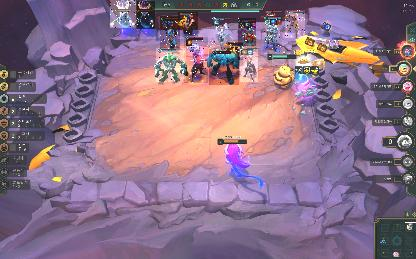1_aurelionsol: (110, 0, 136, 28), (137, 1, 155, 29)
1_bard: (178, 12, 198, 36), (227, 42, 243, 60)
1_shyvana: (285, 10, 305, 38)
2_kaisa: (264, 16, 282, 52)
2_malphite: (156, 48, 186, 82)
2_nilah: (160, 16, 180, 50)
2_rakan: (240, 46, 258, 82)
2_soraka: (210, 17, 232, 49)
2_yasuo: (184, 37, 208, 83)
2_zac: (209, 51, 239, 85)
2_zeri: (238, 18, 256, 46), (264, 40, 282, 50)
